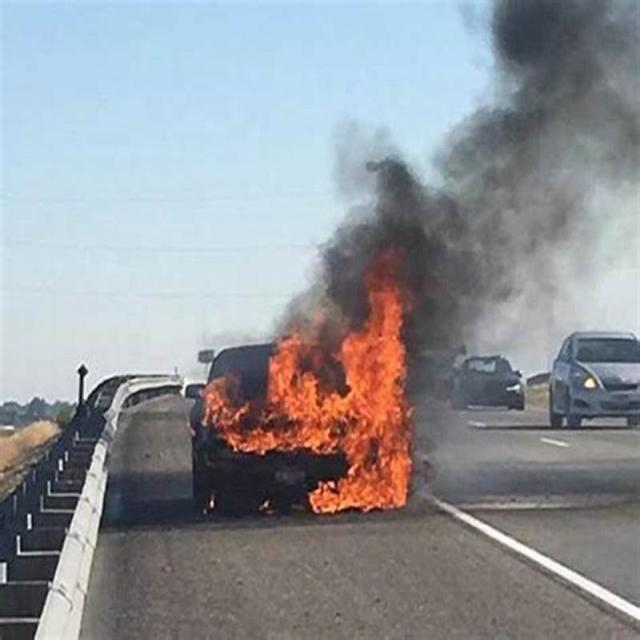fire: (270, 341, 412, 457), (318, 460, 411, 513)
smoke: (442, 138, 602, 302)
